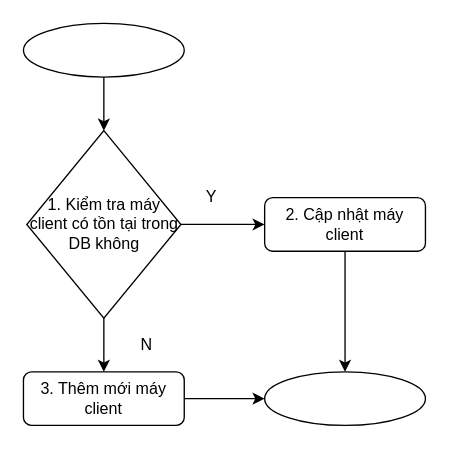
The diagram is 449 pixels wide and 449 high, and some of its shapes have lost their labels. Here are the shapes that lost their labels. From the top down, the centre of each, then its label:
At (x=103, y=49): "Bắt đầu".
At (x=344, y=398): "Kết thúc".
